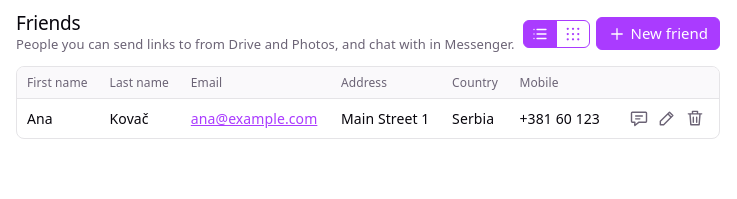
Test case: Friends › can show friends as a grid of cards
The width and height of the screenshot is (737, 199).
Expected: the link "ana@example.com" is shown, [191, 109, 317, 128]
Click the button named "Grid view". click: x=572, y=34
box: [556, 20, 590, 48]
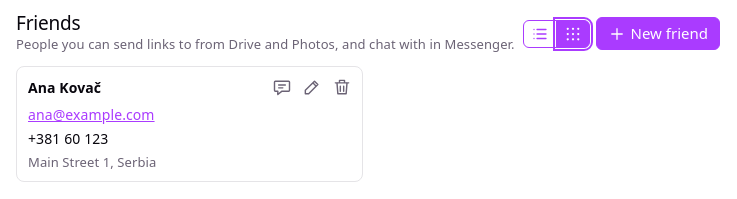
Expected: the text "+381 60 123" is shown, [28, 129, 108, 148]
Result: the table is gone
Result: the text "Main Street 1, Serbia" is shown at [28, 153, 156, 171]
Click the button named "List view". click: x=540, y=34
box: [522, 20, 556, 48]
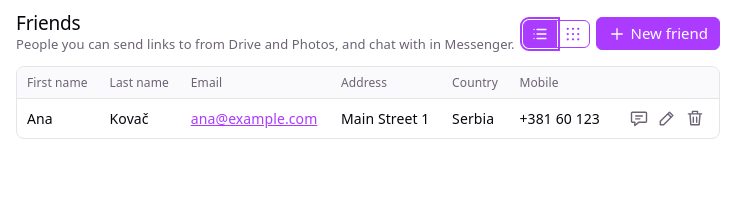
Result: the table is shown at [17, 67, 719, 138]
